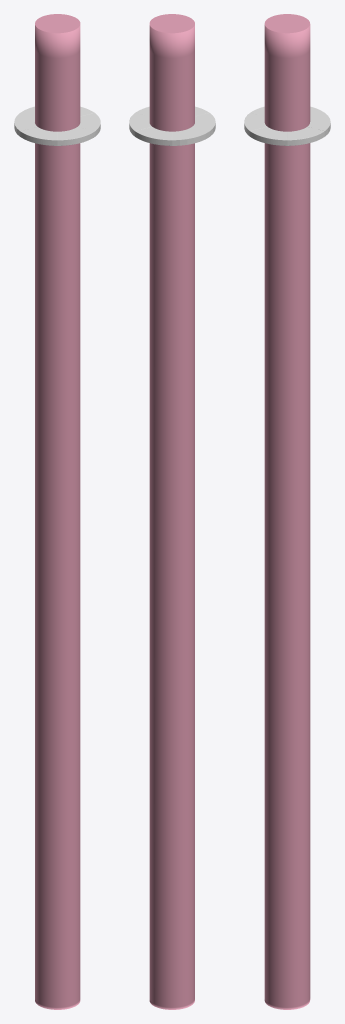
File: Pipe.fbx
The picture shows the model from 3 angles, left to right: view 1: azimuth 30°, elevation 25°; view 2: azimuth 210°, elevation 25°; view 3: azimuth 270°, elevation 25°; orthographic projection.
Visible parts, largest first — view 1: Cylinder, disk3.007, disk2.002, disk1.001, disk4.003; view 2: Cylinder, disk6.006, disk5.004, disk1.001, disk4.003; view 3: Cylinder, disk4.003, disk5.004, disk6.006, disk3.007.
Part boxes in pixels (<box>): Cylinder: <box>35,14,80,1009</box>; disk3.007: <box>57,127,94,145</box>; disk2.002: <box>20,127,57,145</box>; disk1.001: <box>14,113,37,136</box>; disk4.003: <box>77,113,100,136</box>; Cylinder: <box>149,14,194,1009</box>; disk6.006: <box>172,127,209,145</box>; disk5.004: <box>135,127,172,145</box>; disk1.001: <box>192,113,215,136</box>; disk4.003: <box>129,113,151,136</box>; Cylinder: <box>264,14,310,1009</box>; disk4.003: <box>250,127,287,145</box>; disk5.004: <box>287,127,324,145</box>; disk6.006: <box>307,113,330,136</box>; disk3.007: <box>244,113,267,136</box>.
Size of the model in its own units: 380 by 4726 by 379.
